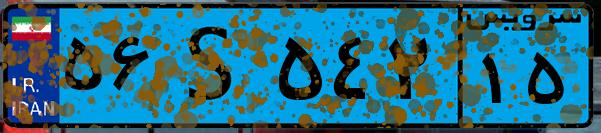1: (475, 38, 525, 113)
2: (385, 28, 445, 110)
4: (330, 28, 385, 110)
5: (270, 28, 330, 110), (57, 26, 110, 100), (525, 38, 570, 115)
6: (110, 28, 158, 98)
S: (158, 12, 270, 120)
